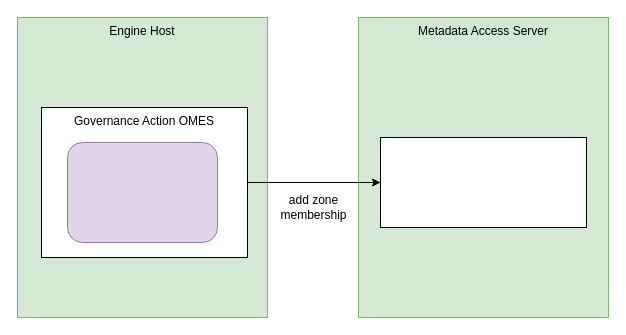
Some shapes in this 626 by 335 pixel diagram are drawn without their labels. Each missing label, with the centre of its shape:
Open Metadata Framework Service: (483,182)
Zone Publisher Governance Action Service: (142,192)
